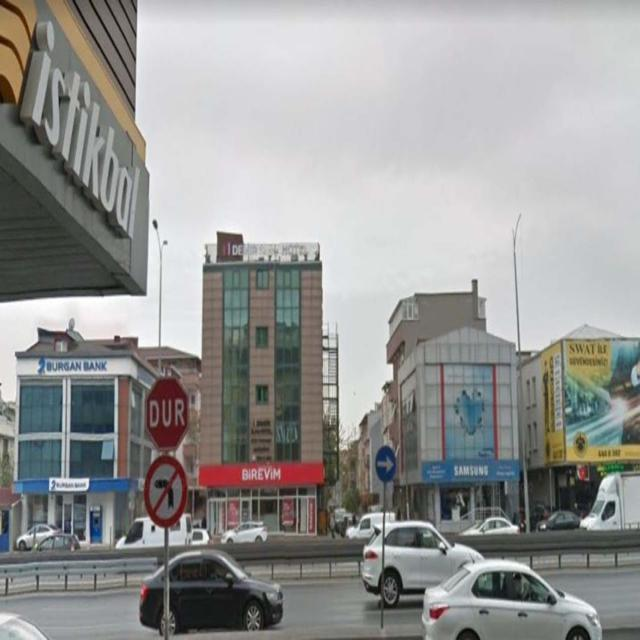dur: (144, 377, 190, 450)
sag: (376, 445, 396, 482)
soladonulmez: (144, 454, 188, 526)
